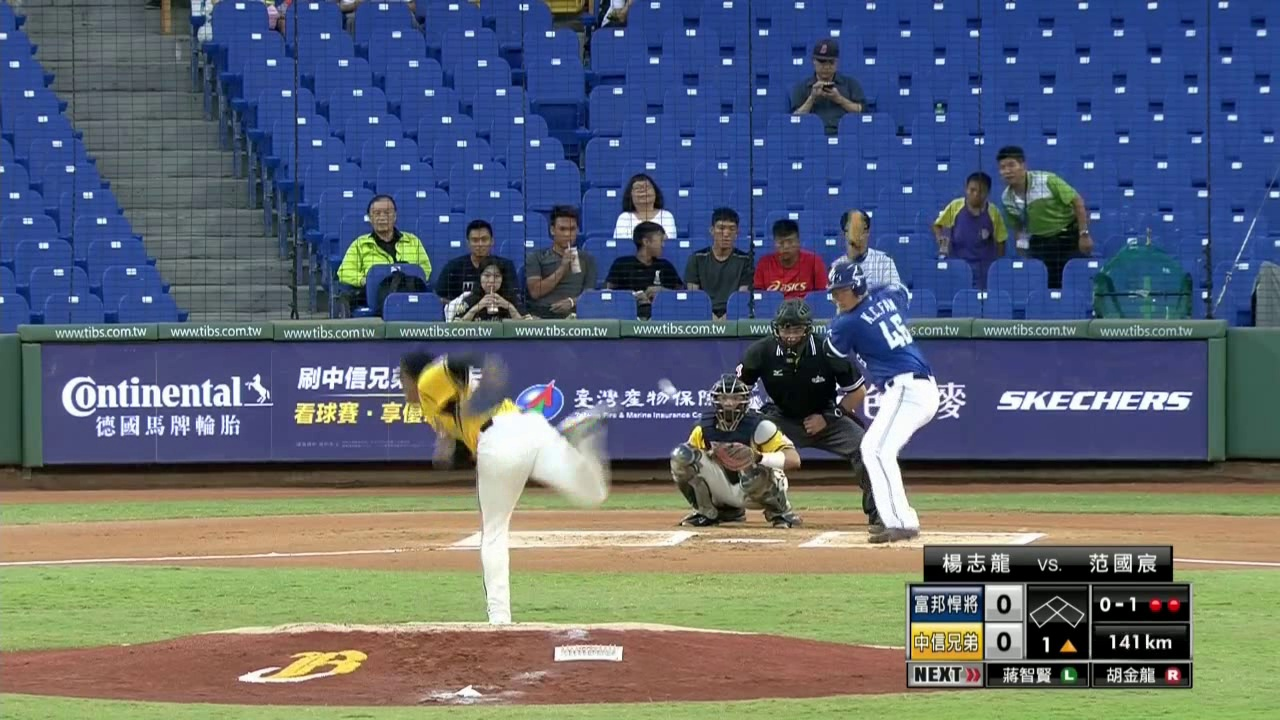ball: (658, 375, 677, 397)
base: (1027, 592, 1086, 630)
bat: (842, 208, 863, 264)
out: (1147, 595, 1183, 614)
score1: (985, 584, 1024, 621)
score2: (984, 623, 1023, 659)
session: (1036, 634, 1079, 653)
speed: (1104, 631, 1174, 651)
strikeball: (1097, 592, 1139, 614)
